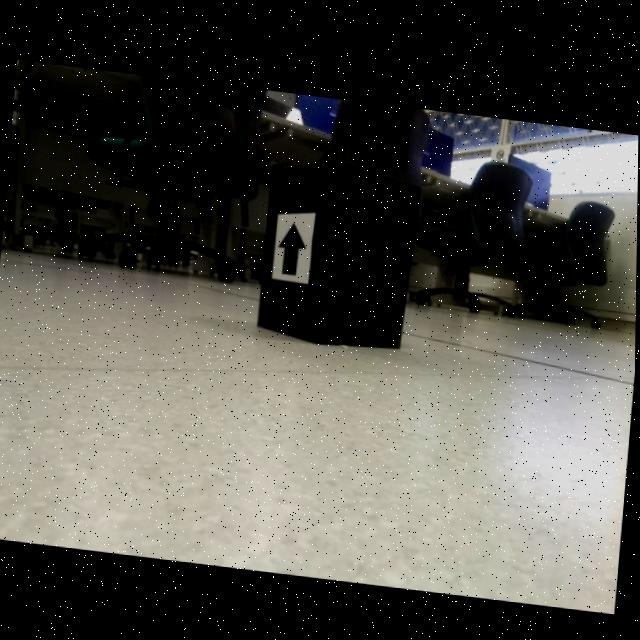UP: (278, 218, 308, 273)
